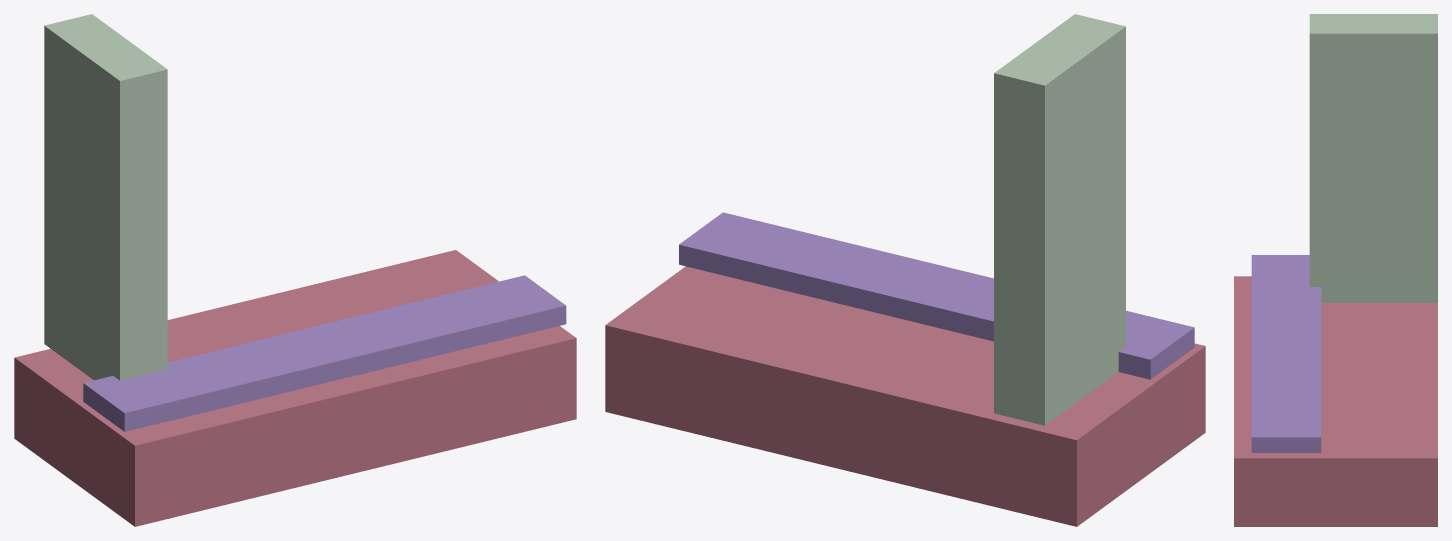
Rendered from 199512_pred.glb.
The picture shows the model from 3 angles, left to right: view 1: azimuth 30°, elevation 25°; view 2: azimuth 150°, elevation 25°; view 3: azimuth 270°, elevation 25°; orthographic projection. The views are drawn at different scales.
Parts seen in each view (by area): view 1: world; view 2: world; view 3: world.
Boxes of the visible parts, bbox=[...] form: world: bbox=[14, 14, 576, 526]; world: bbox=[605, 14, 1205, 526]; world: bbox=[1234, 14, 1437, 526].
Size of the model in its own units: 7.4 by 6.5 by 3.5.
